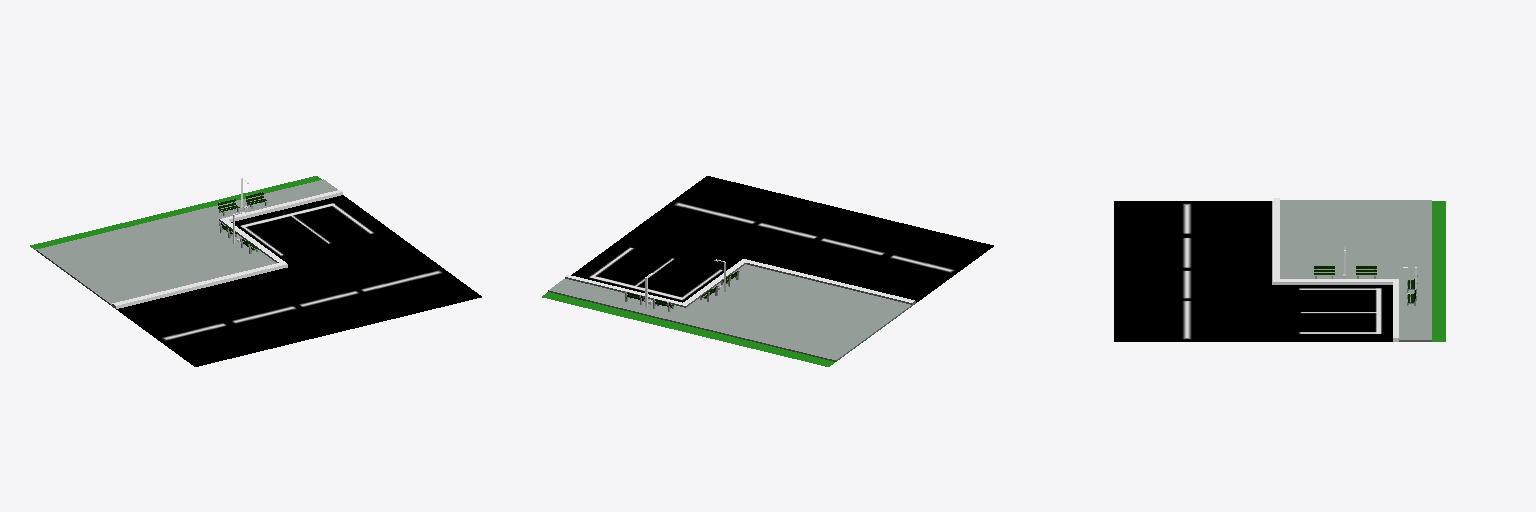
3 renders of one model, left to right at view 1: azimuth 30°, elevation 25°; view 2: azimuth 150°, elevation 25°; view 3: azimuth 270°, elevation 25°, orthographic.
Visible parts, largest first — view 1: Plane.001; view 2: Plane.001; view 3: Plane.001.
Part boxes in pixels (left/top/right/bottom): Plane.001: left=30, top=176, right=481, bottom=366; Plane.001: left=542, top=176, right=993, bottom=366; Plane.001: left=1114, top=198, right=1445, bottom=341.
Bounding box in the file's own units: 35.42 × 3.65 × 35.42.
1 materials, 1 textured.